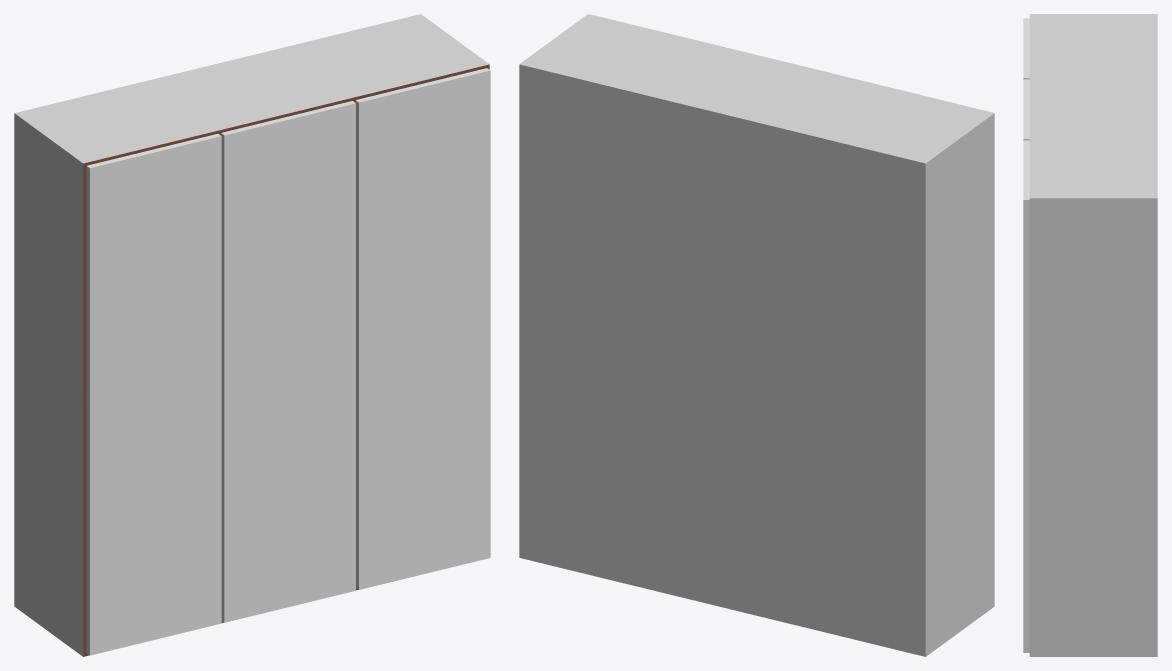
The model's file is closet_016.glb.
The picture shows the model from 3 angles, left to right: view 1: azimuth 30°, elevation 25°; view 2: azimuth 150°, elevation 25°; view 3: azimuth 270°, elevation 25°; orthographic projection. The views are drawn at different scales.
Parts seen in each view (by area): view 1: closet_016; view 2: closet_016; view 3: closet_016.
Boxes of the visible parts, bbox=[...] form: closet_016: bbox=[14, 14, 490, 656]; closet_016: bbox=[519, 14, 994, 656]; closet_016: bbox=[1023, 14, 1157, 656].
Bounding box in the file's own units: 1.95 × 2.26 × 0.5989.
1 material, 1 textured.
